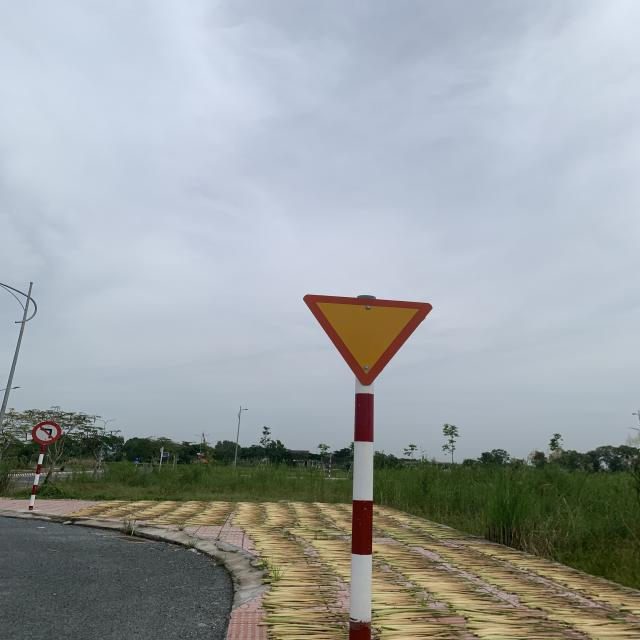Cam_Re_Trai: (32, 421, 62, 444)
Gioi_Han_Toc_Do_25: (302, 294, 433, 386)
